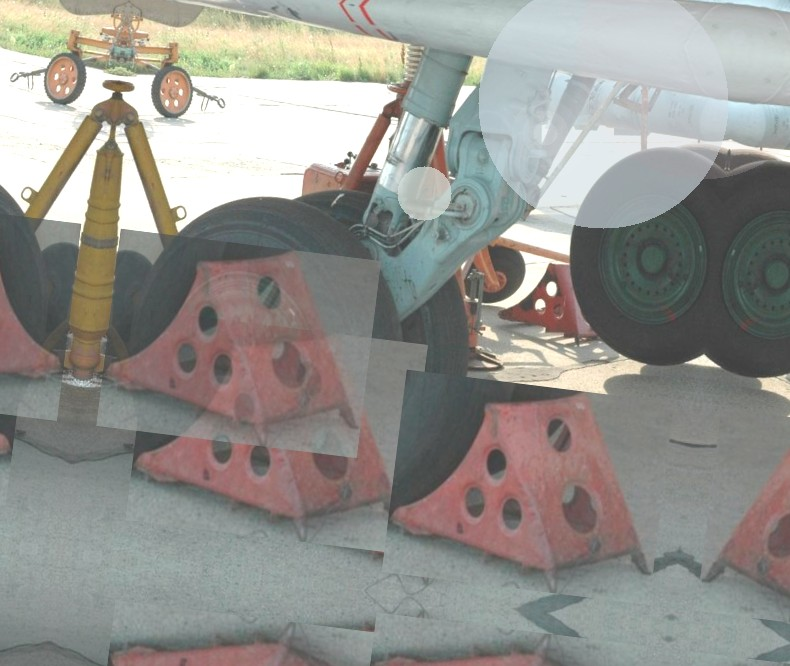chock: (125, 311, 428, 554), (382, 370, 674, 605), (96, 229, 381, 458), (295, 412, 519, 592), (697, 409, 790, 644), (272, 597, 496, 666)
wheel: (106, 179, 425, 543), (557, 131, 730, 373), (702, 149, 790, 391)
